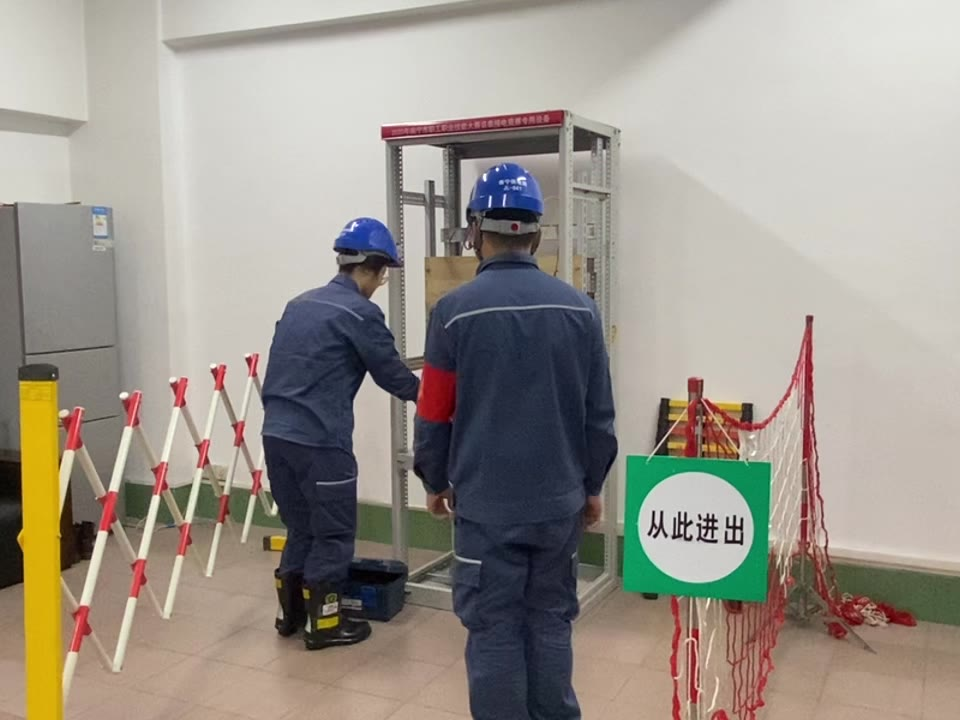badge: (415, 361, 461, 425)
downsuit: (450, 534, 593, 720), (261, 452, 363, 600)
halt: (464, 162, 549, 257), (332, 216, 403, 292)
hand: (416, 489, 455, 527), (581, 494, 609, 534)
inear: (463, 218, 492, 260)
intosign: (622, 452, 779, 608)
noear: (357, 263, 382, 290)
person: (414, 159, 622, 720), (251, 214, 415, 641)
shoe: (293, 579, 375, 650), (263, 569, 306, 636)
upsuit: (410, 259, 620, 521), (256, 275, 416, 442)
